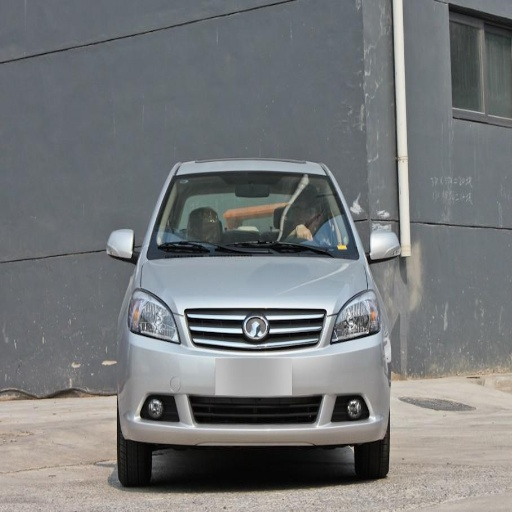front_bumper: (118, 310, 388, 444)
front_right_light: (126, 290, 181, 344)
hood: (141, 256, 367, 339)
